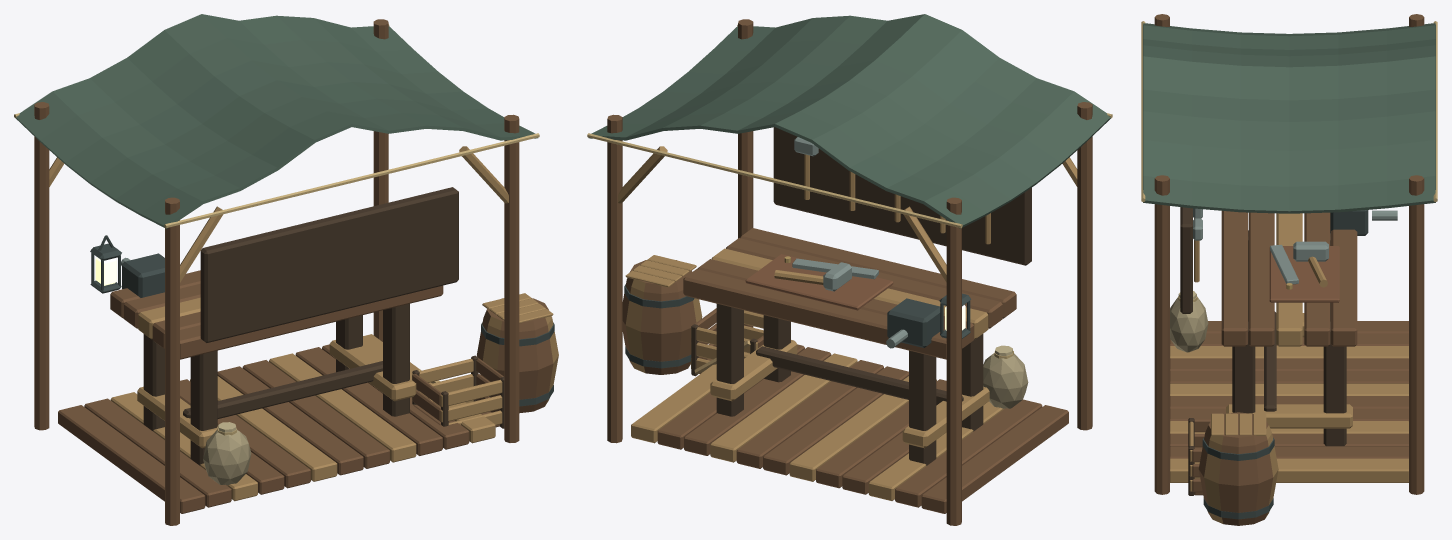
The model's file is Camp_Workbench_L2.fbx.
3 renders of one model, left to right at view 1: azimuth 30°, elevation 25°; view 2: azimuth 150°, elevation 25°; view 3: azimuth 270°, elevation 25°, orthographic. The views are drawn at different scales.
Parts seen in each view (by area): view 1: Camp_Workbench_L2_Export; view 2: Camp_Workbench_L2_Export; view 3: Camp_Workbench_L2_Export.
Part boxes in pixels (x1,y1,x2,y2): Camp_Workbench_L2_Export: [14, 14, 558, 525]; Camp_Workbench_L2_Export: [587, 14, 1112, 525]; Camp_Workbench_L2_Export: [1141, 14, 1437, 525].
Bounding box in the file's own units: 3.86 × 3.08 × 2.33.
